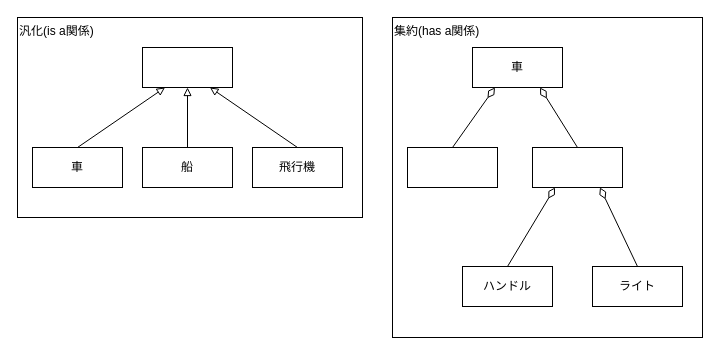
Image size: 720x355. Some labels were removed from this diagram. Each missing label, with the centre of its shape:
"エンジン" belongs at point (452, 167).
"ボディ" belongs at point (577, 167).
"乗り物" belongs at point (187, 67).
